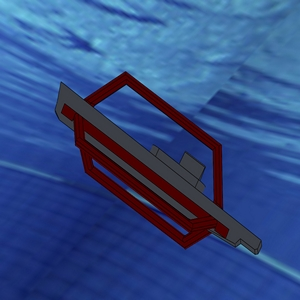submarine: (37, 54, 273, 266)
